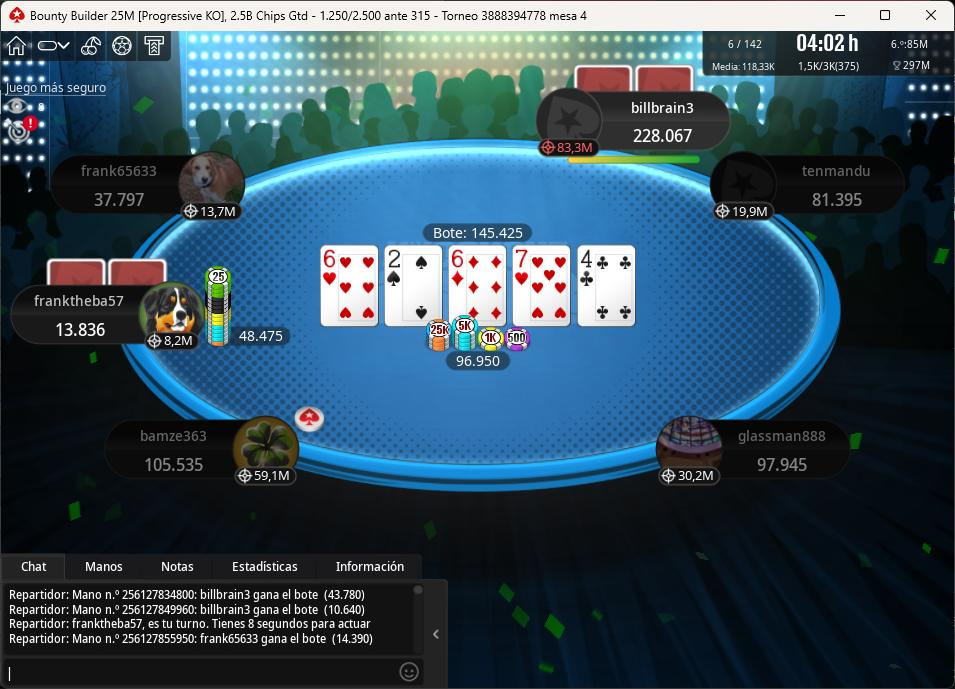HiddenCards: (44, 259, 175, 286), (574, 68, 702, 94)
Player: (537, 88, 731, 156), (10, 284, 212, 349), (649, 421, 857, 484), (104, 422, 307, 485), (47, 153, 247, 215), (713, 154, 911, 213)
PlayerChips: (134, 454, 211, 475), (627, 128, 703, 149), (805, 190, 873, 210), (752, 455, 819, 475), (47, 323, 115, 342), (86, 191, 153, 210)
Pot: (422, 224, 539, 243)
ShowedCards: (313, 244, 639, 331)
ShowedCards1: (319, 243, 384, 329)
ShowedCards2: (384, 246, 447, 330)
ShowedCards3: (446, 246, 511, 330)
ShowedCards4: (510, 246, 573, 331)
ShowedCards5: (574, 242, 636, 326)
TablePot: (415, 322, 551, 382)
